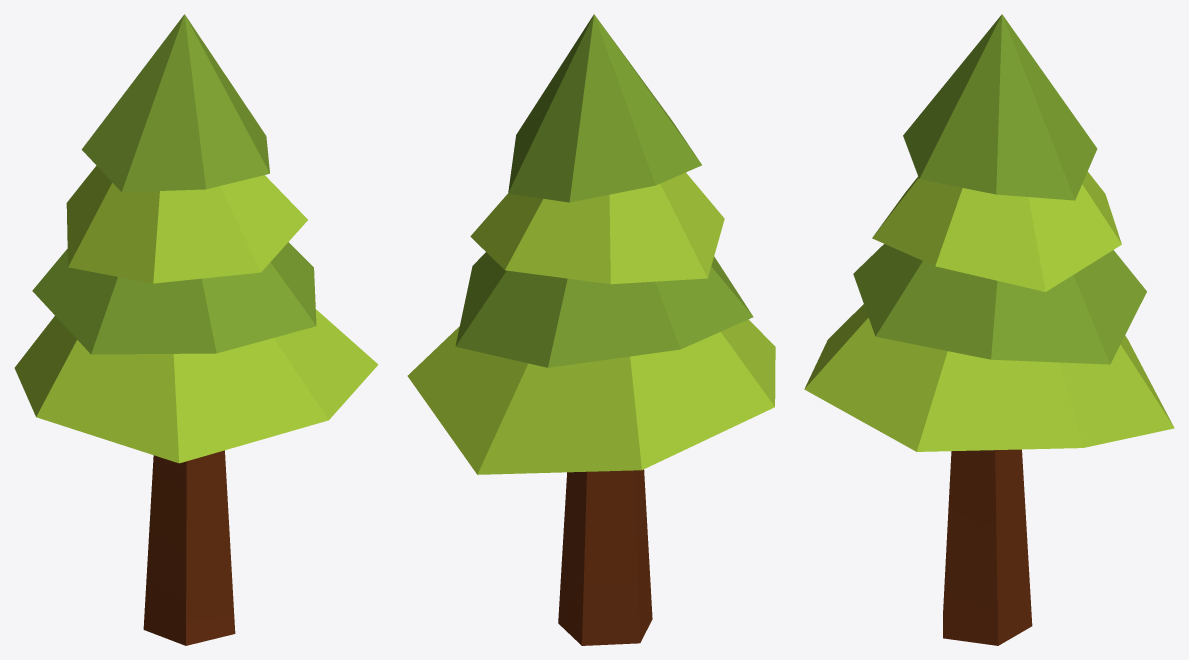
File: Tree_24_Spring.fbx
3 views of the same model, side by side, from view 1: azimuth 30°, elevation 25°; view 2: azimuth 150°, elevation 25°; view 3: azimuth 270°, elevation 25° (orthographic). The views are drawn at different scales.
Parts seen in each view (by area): view 1: Tree_24_p2_Spring, Tree_24_p1_Spring; view 2: Tree_24_p2_Spring, Tree_24_p1_Spring; view 3: Tree_24_p2_Spring, Tree_24_p1_Spring.
Boxes of the visible parts, box(x1,y1,x2,y2) form: Tree_24_p2_Spring: box(14, 14, 378, 463); Tree_24_p1_Spring: box(143, 450, 235, 645); Tree_24_p2_Spring: box(407, 14, 775, 474); Tree_24_p1_Spring: box(558, 469, 652, 645); Tree_24_p2_Spring: box(804, 14, 1174, 451); Tree_24_p1_Spring: box(943, 449, 1032, 645).
Size of the model in its own units: 183 by 337 by 184.
